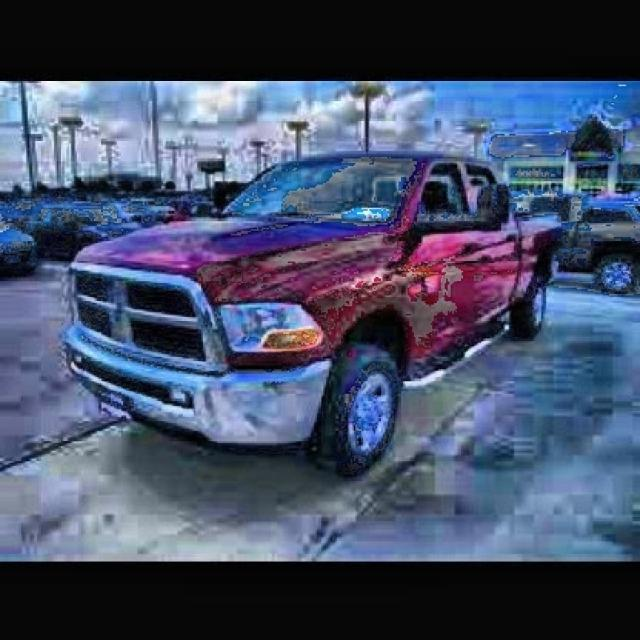maroon: (61, 159, 512, 446)
